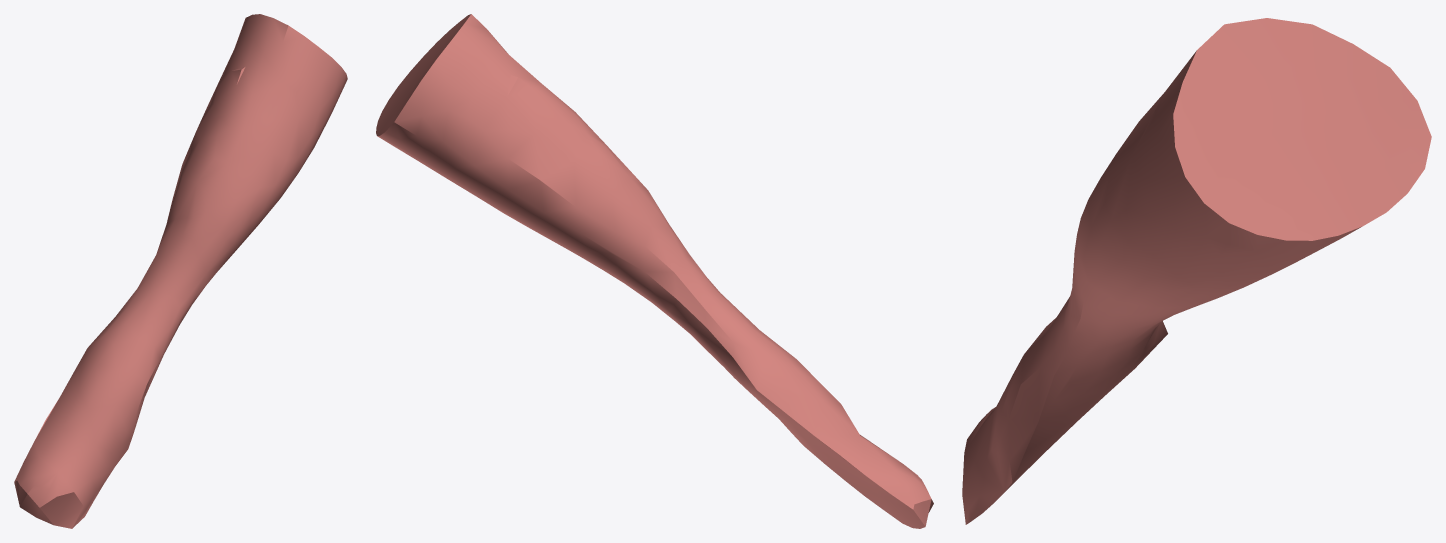
Rendered from fma39283-f_mm1941.glb.
3 views of the same model, side by side, from view 1: azimuth 30°, elevation 25°; view 2: azimuth 150°, elevation 25°; view 3: azimuth 270°, elevation 25° (orthographic). The views are drawn at different scales.
Visible parts, largest first — view 1: FMA39283-F_MM1941; view 2: FMA39283-F_MM1941; view 3: FMA39283-F_MM1941.
Part boxes in pixels (x1,y1,x2,y2): FMA39283-F_MM1941: [14, 14, 347, 528]; FMA39283-F_MM1941: [376, 14, 933, 528]; FMA39283-F_MM1941: [962, 18, 1431, 524].
Size of the model in its own units: 0.0128 by 0.0126 by 0.00693.
